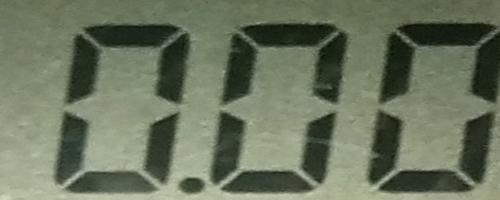.: (178, 170, 208, 198)
